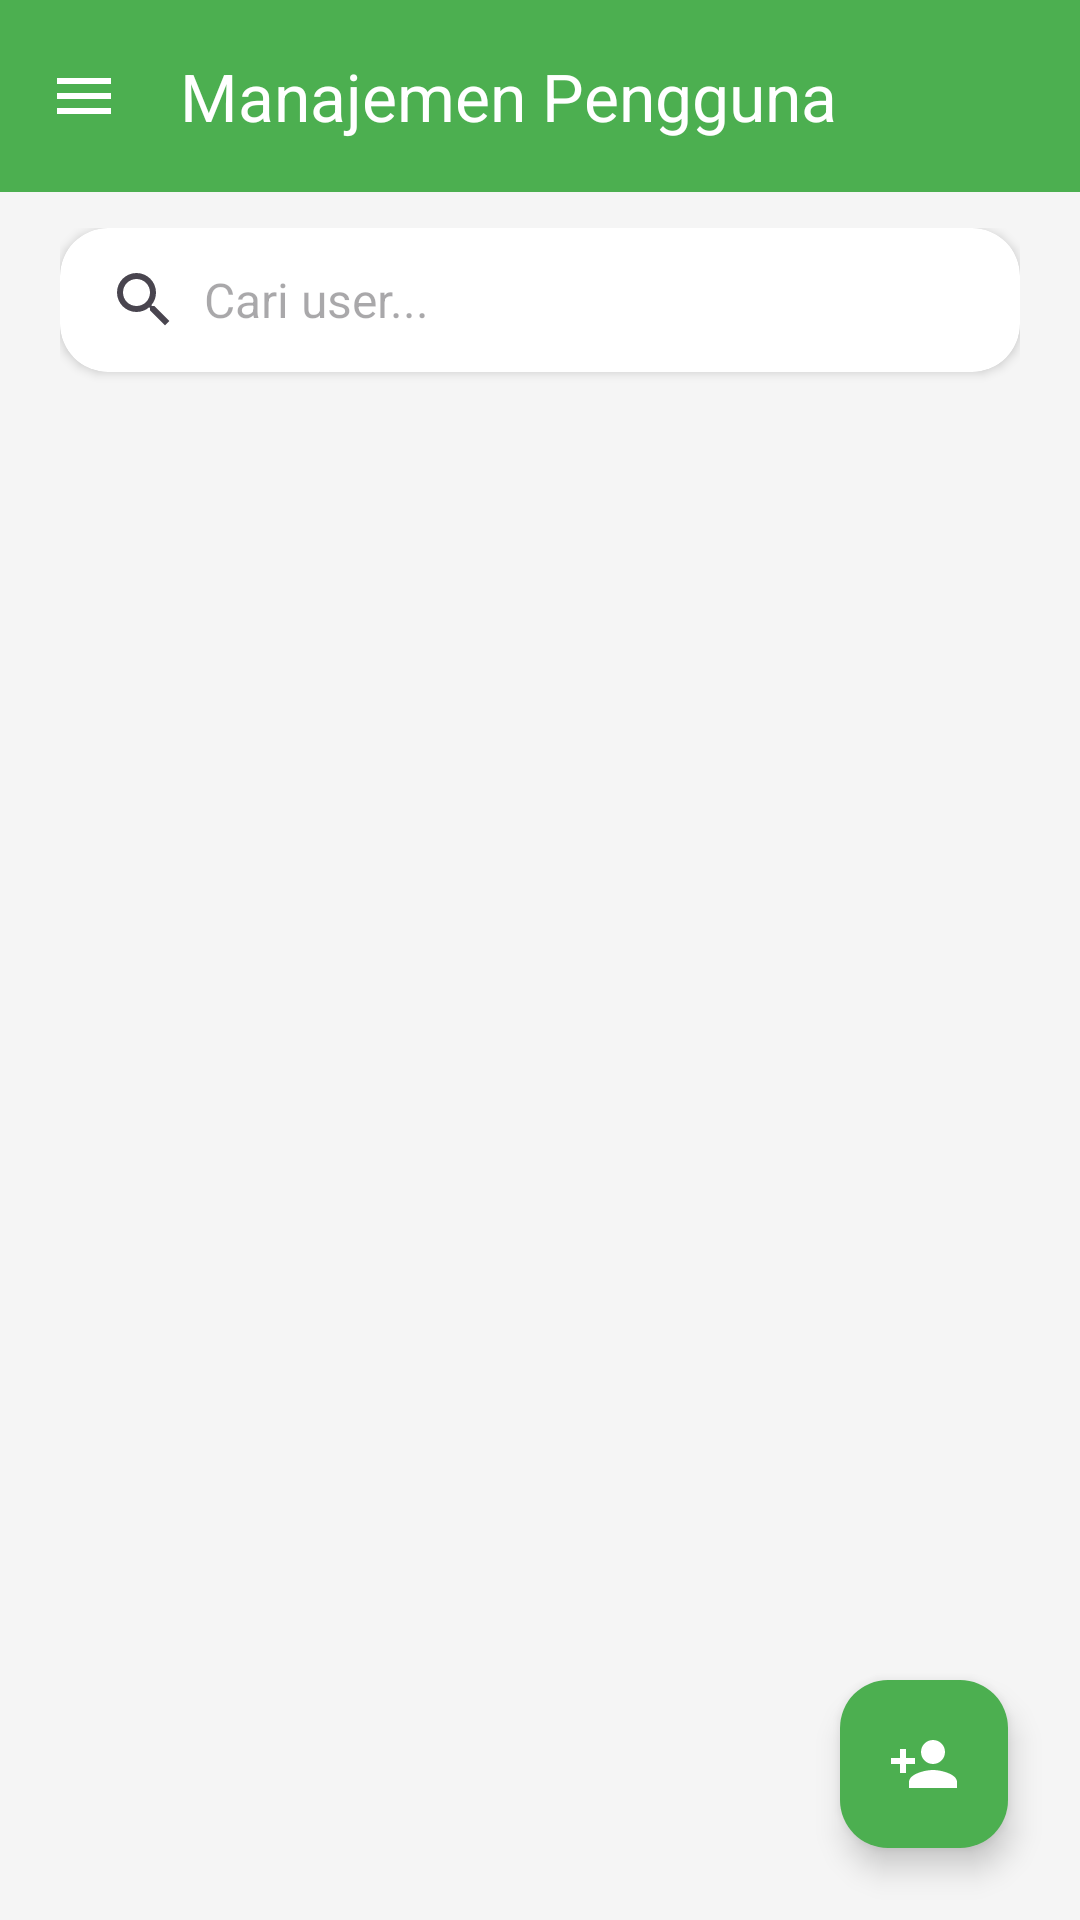

Point at icon controls on the screen. Image size 1080 × 1920, points as [x,y].
Tambah User: [924,1764]
